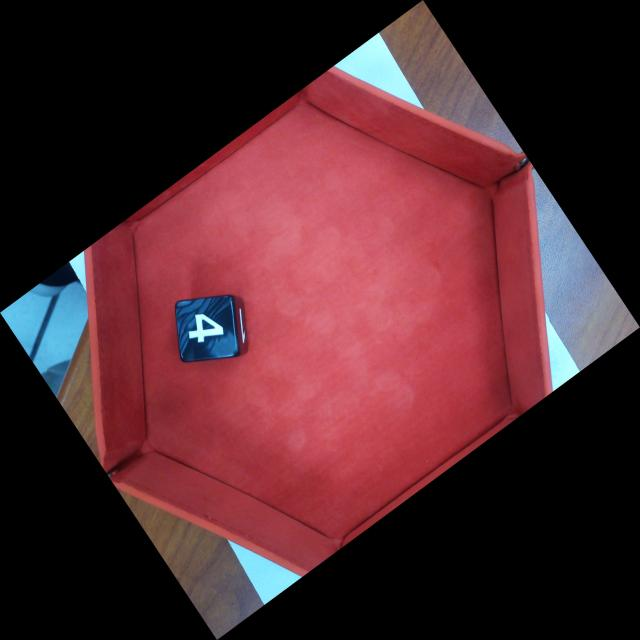dice: (174, 294, 241, 360)
